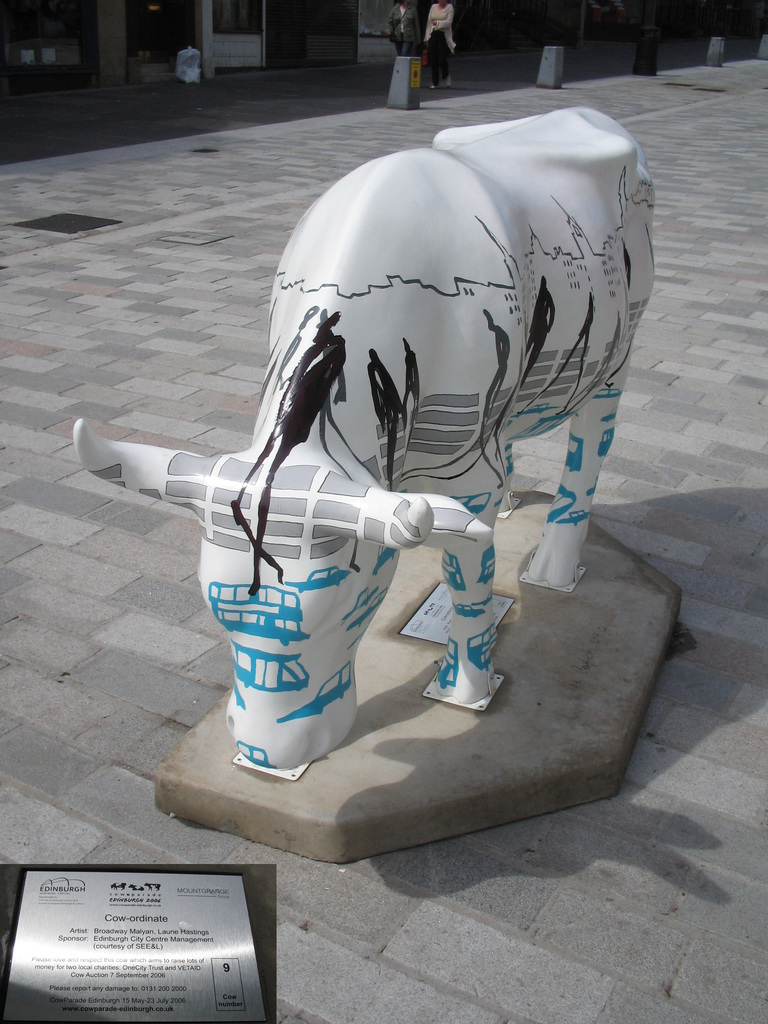Animal: (74, 107, 655, 770)
